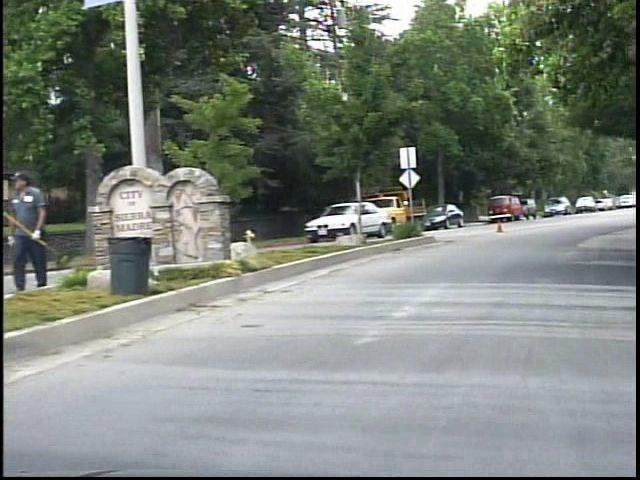person: (18, 166, 66, 295)
